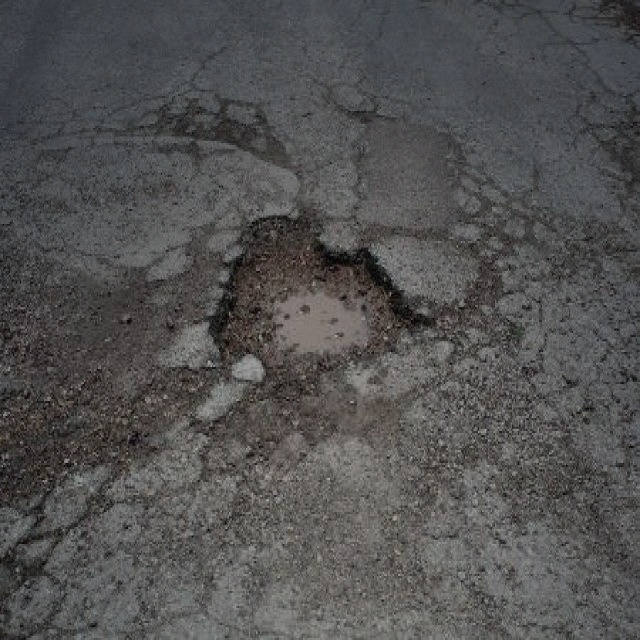pothole: (202, 202, 432, 394)
